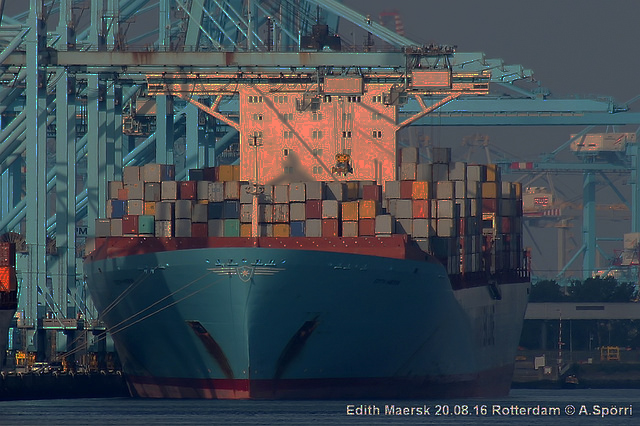container_ship: (84, 56, 532, 402)
